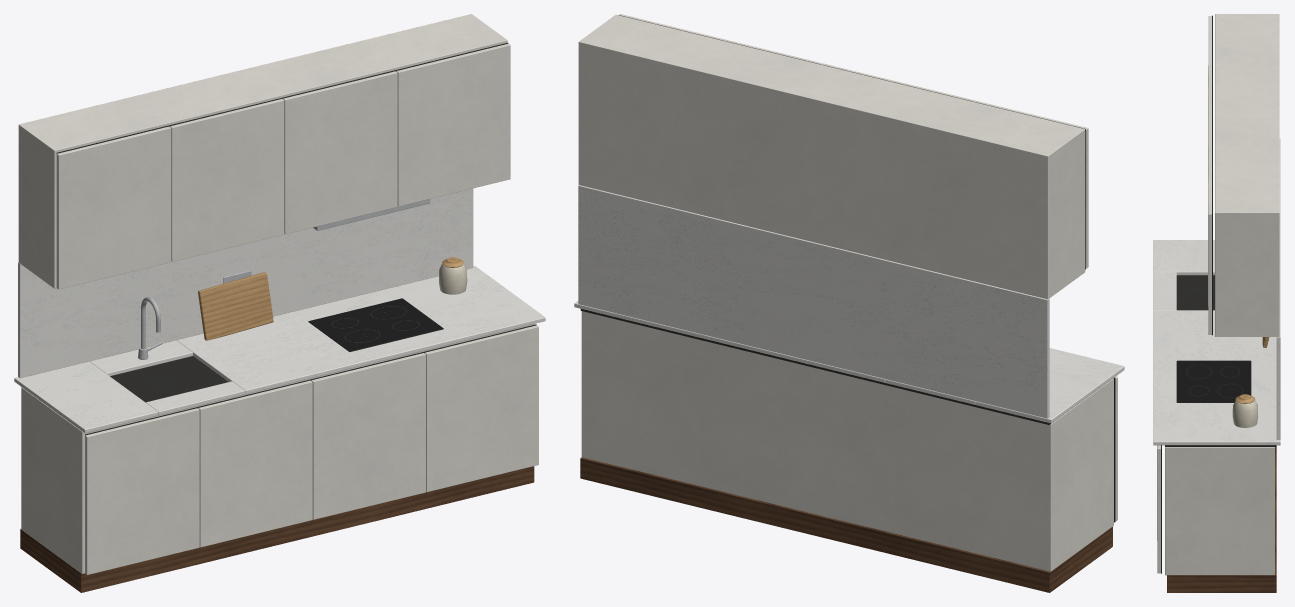
The model's file is noi-that-tu-bep.glb.
3 views of the same model, side by side, from view 1: azimuth 30°, elevation 25°; view 2: azimuth 150°, elevation 25°; view 3: azimuth 270°, elevation 25° (orthographic). The views are drawn at different scales.
Parts seen in each view (by area): view 1: Backsplash, Worktop, WallCarcass, BaseDoor_1, BaseDoor_2, BaseDoor_3, BaseDoor_4, WallDoor_1, WallDoor_3, WallDoor_2, WallDoor_4, BaseCarcass (+5 smaller); view 2: WallCarcass, BaseCarcass, Backsplash, Plinth, Worktop, ShadowGap; view 3: WallCarcass, Worktop, BaseCarcass, Hob, Plinth, ShadowGap, Backsplash, Jar, WallDoor_4, BaseDoor_4, WallDoor_2, WallDoor_1 (+1 smaller).
Part boxes in pixels (bbox=[...]): Backsplash: bbox=[18, 188, 473, 378]; Worktop: bbox=[14, 265, 545, 433]; WallCarcass: bbox=[18, 14, 507, 288]; BaseDoor_1: bbox=[85, 408, 199, 574]; BaseDoor_2: bbox=[198, 380, 312, 547]; BaseDoor_3: bbox=[311, 353, 425, 519]; BaseDoor_4: bbox=[424, 325, 538, 492]; WallDoor_1: bbox=[56, 126, 171, 289]; WallDoor_3: bbox=[283, 71, 397, 234]; WallDoor_2: bbox=[170, 99, 284, 261]; WallDoor_4: bbox=[396, 43, 510, 206]; BaseCarcass: bbox=[21, 323, 535, 573]; WallCarcass: bbox=[578, 14, 1085, 299]; BaseCarcass: bbox=[581, 311, 1113, 571]; Backsplash: bbox=[578, 185, 1049, 418]; Plinth: bbox=[580, 457, 1112, 592]; Worktop: bbox=[574, 301, 1124, 423]; ShadowGap: bbox=[580, 15, 1115, 522]; WallCarcass: bbox=[1215, 14, 1279, 336]; Worktop: bbox=[1153, 240, 1280, 445]; BaseCarcass: bbox=[1165, 447, 1274, 575]; Hob: bbox=[1176, 360, 1251, 402]; Plinth: bbox=[1167, 447, 1276, 592]; ShadowGap: bbox=[1161, 15, 1276, 573]; Backsplash: bbox=[1276, 138, 1280, 439]; Jar: bbox=[1232, 394, 1258, 427]; WallDoor_4: bbox=[1208, 165, 1211, 334]; BaseDoor_4: bbox=[1157, 445, 1160, 573]; WallDoor_2: bbox=[1208, 65, 1211, 142]; WallDoor_1: bbox=[1208, 16, 1211, 65].
Size of the model in its own units: 2.44 by 2.14 by 0.65.
8 materials, 8 textured.
